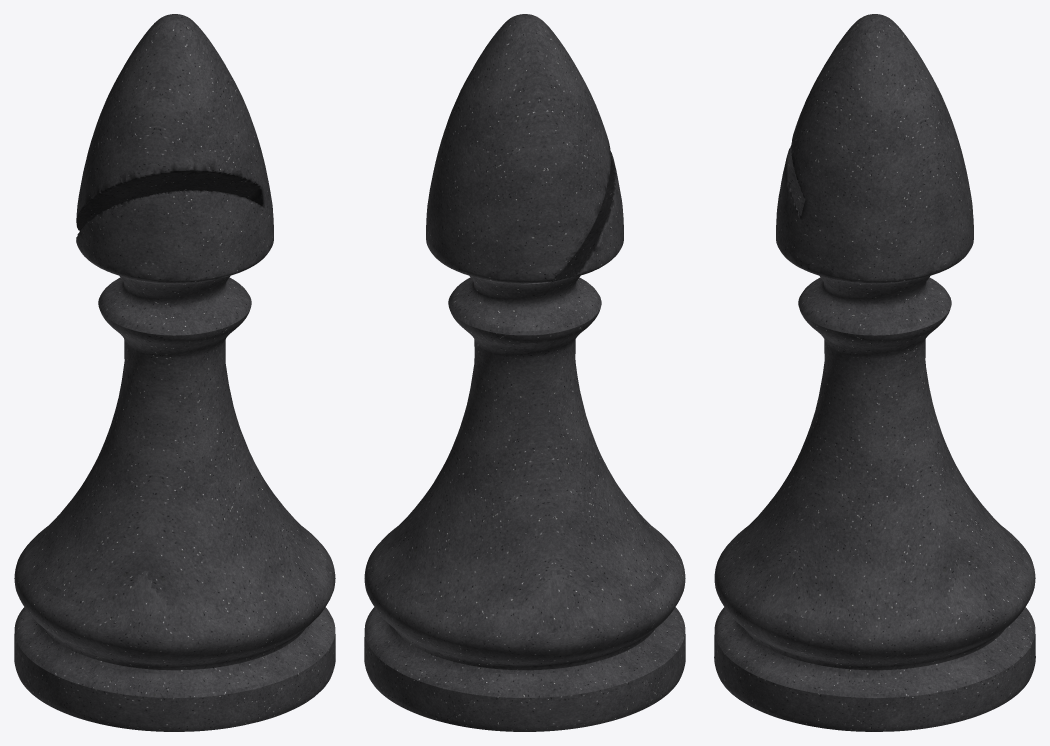
The model's file is bishop-black-hd.glb.
3 views of the same model, side by side, from view 1: azimuth 30°, elevation 25°; view 2: azimuth 150°, elevation 25°; view 3: azimuth 270°, elevation 25° (orthographic).
Parts seen in each view (by area): view 1: strelec_cerna; view 2: strelec_cerna; view 3: strelec_cerna.
Part boxes in pixels (x1=…): strelec_cerna: x1=14, y1=14, x2=335, y2=731; strelec_cerna: x1=364, y1=14, x2=685, y2=731; strelec_cerna: x1=714, y1=14, x2=1035, y2=731.
Bounding box in the file's own units: 0.584 × 1.32 × 0.5842.
Materials: 1 (1 with a texture image).
